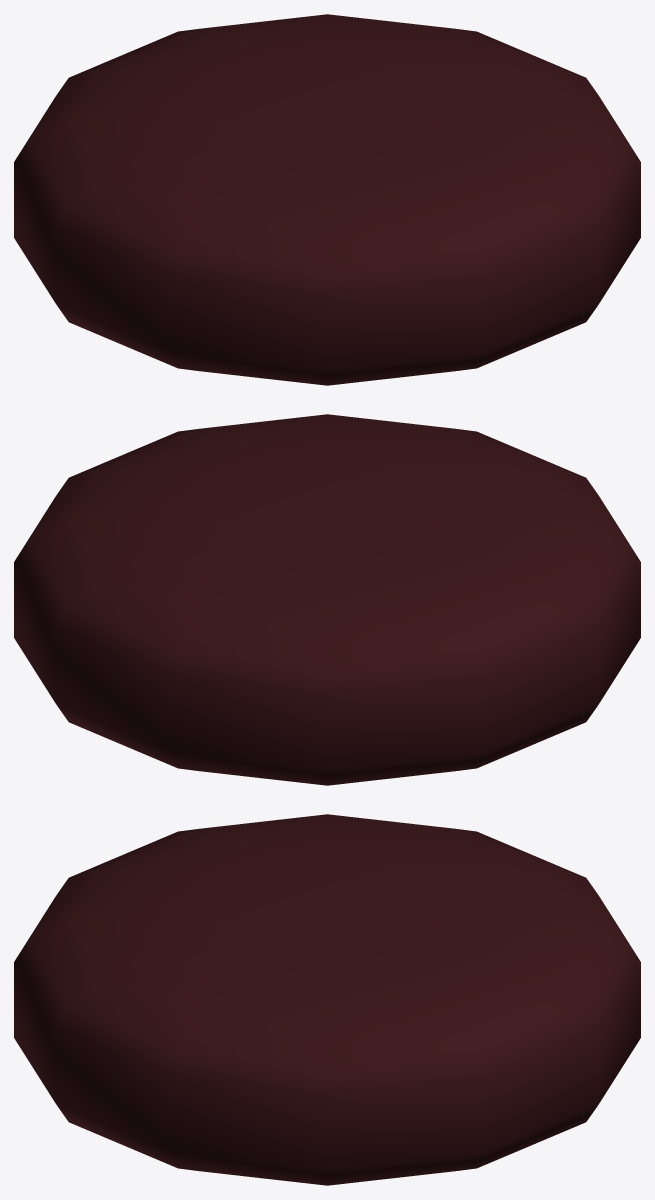
Rendered from carne de hamburguesa.fbx.
The picture shows the model from 3 angles, top to bottom: view 1: azimuth 30°, elevation 25°; view 2: azimuth 150°, elevation 25°; view 3: azimuth 270°, elevation 25°; orthographic projection.
Visible parts, largest first — view 1: Cylinder.033; view 2: Cylinder.033; view 3: Cylinder.033.
Part boxes in pixels (x1,y1,x2,y2): Cylinder.033: (14, 14, 640, 385); Cylinder.033: (14, 414, 640, 785); Cylinder.033: (14, 814, 640, 1185).
Size of the model in its own units: 150 by 49.28 by 150.
